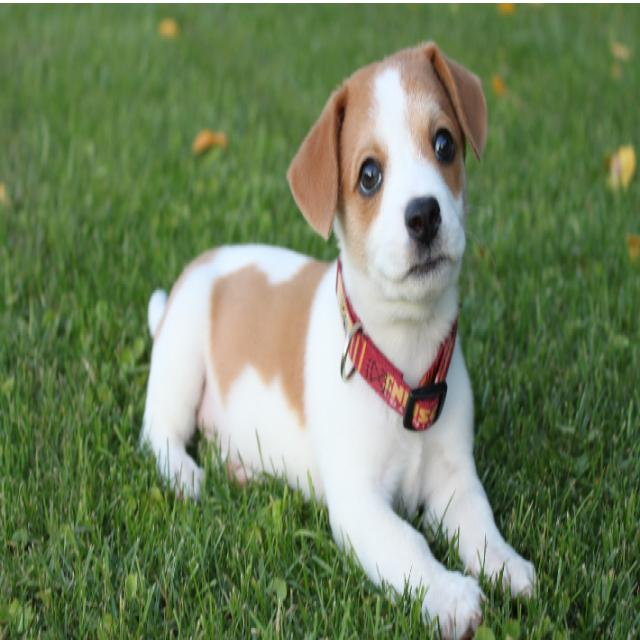dogs: (138, 39, 540, 640)
